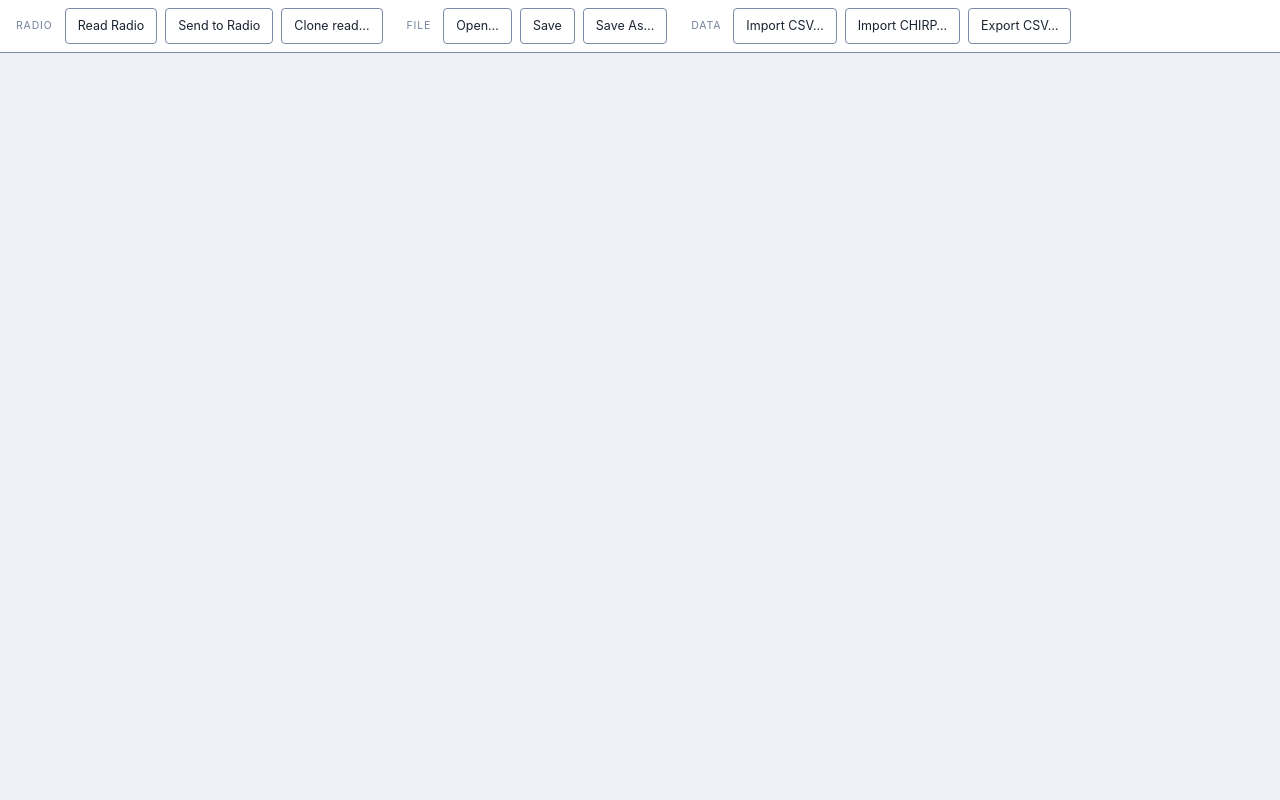
Test: Send flow wiring › NothingToSend with blocked entries (e.g. a pending delete) opens the review dialogue informationally instead of the toast (task-25 brief: not a genuine parity c
The width and height of the screenshot is (1280, 800).
Step 1. Click the button "Send to Radio" → (219, 26), box [165,8,273,44]
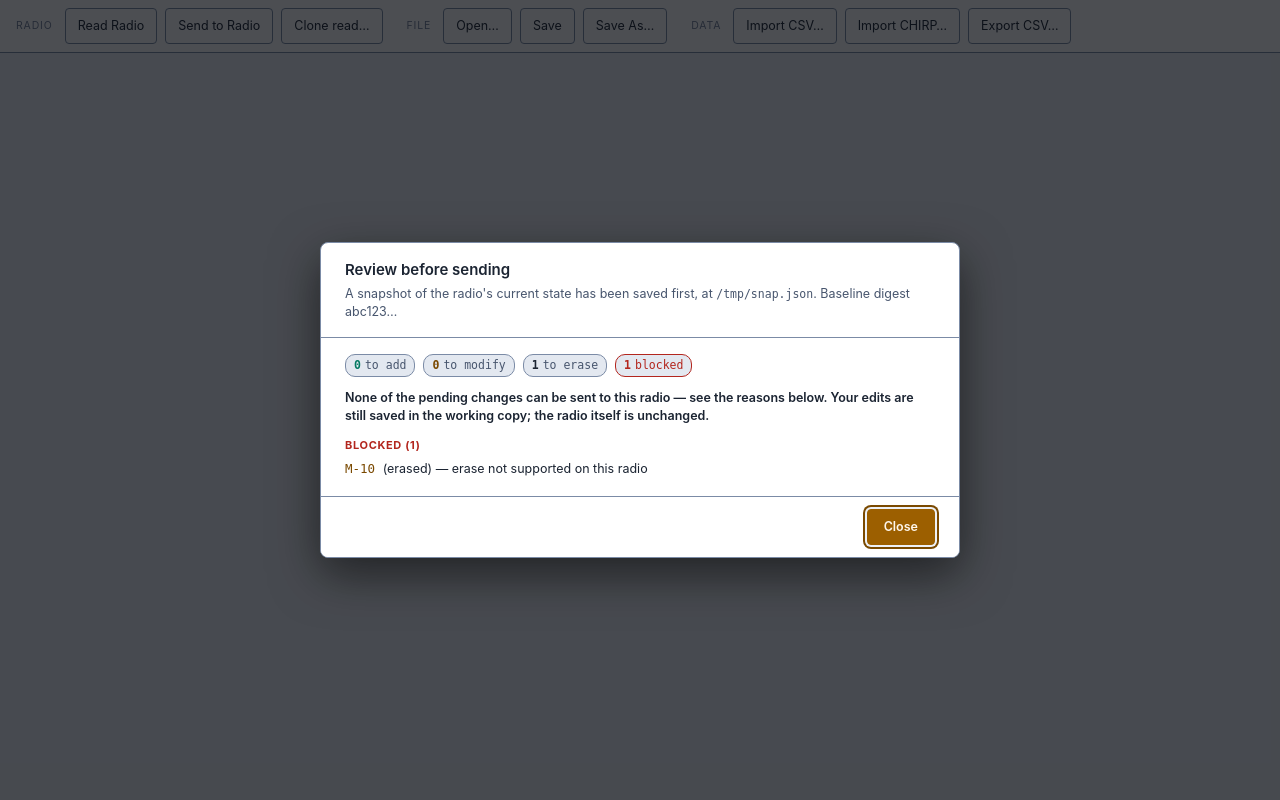
expect the heading "Review before sending" is shown: met, box [345,260,510,279]
expect the list item "M-10 (erased) — erase not supported on this radio" is shown: met, box [345,460,648,476]
